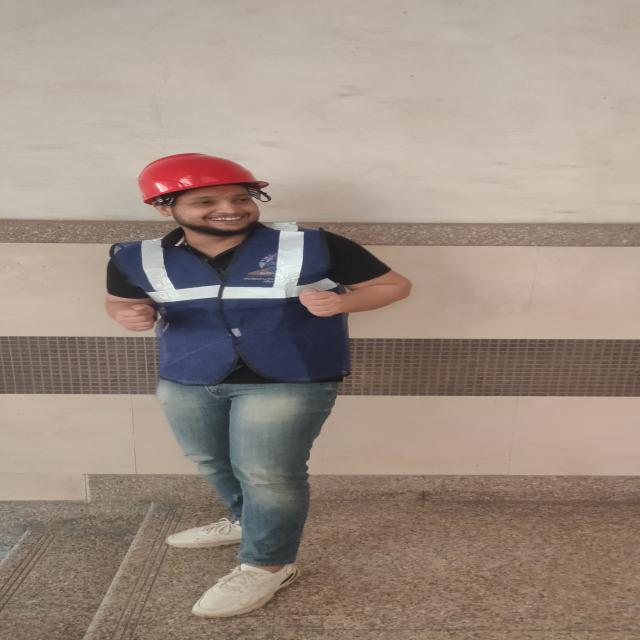safe: (109, 153, 352, 617)
